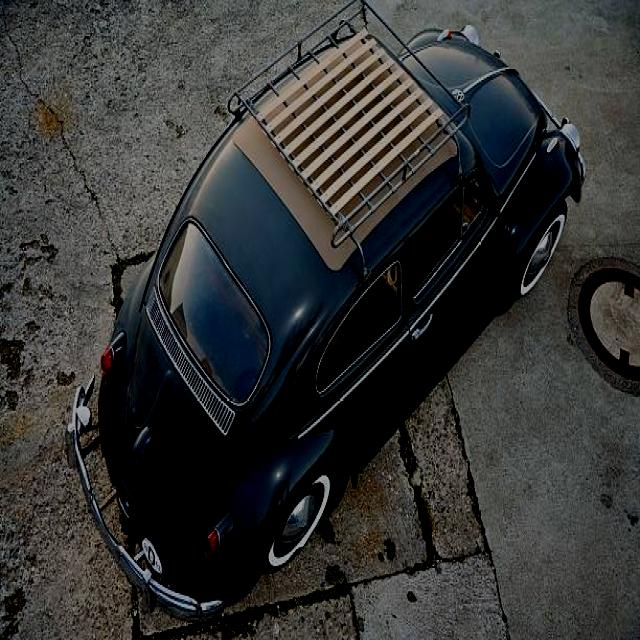car: (96, 30, 580, 592)
